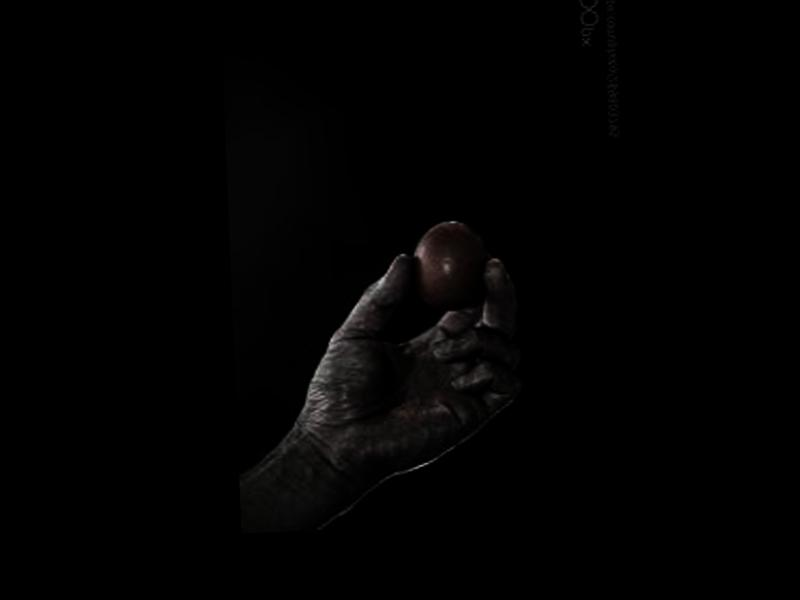Eggs: (408, 220, 487, 314)
